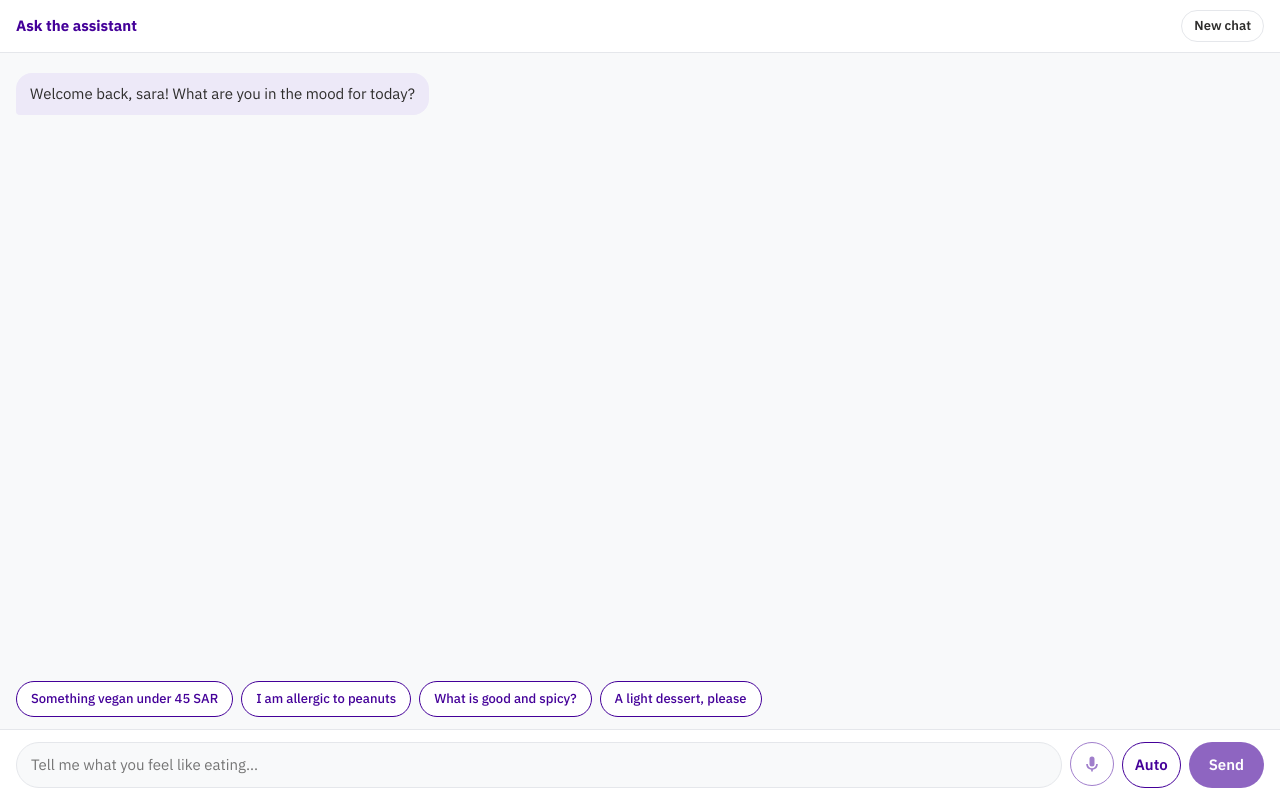
Scenario: ChatPanel › a 503 shows Retry, and Retry resends the same message
Type "Something sweet" into the field named "Message" at point(539, 765), box [16, 742, 1062, 788]
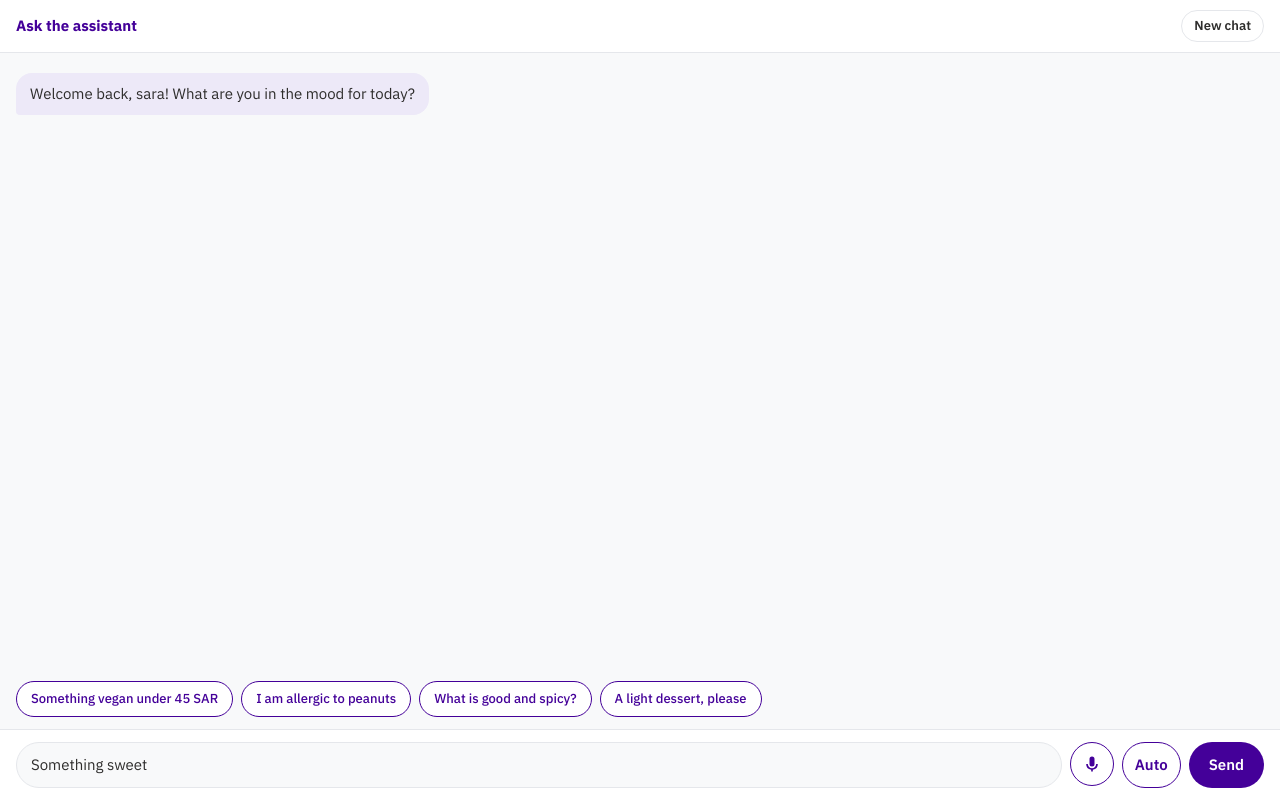
expect the button "Send" is enabled: met
Click the button "Send" at point(1226, 765), box [1189, 742, 1264, 788]
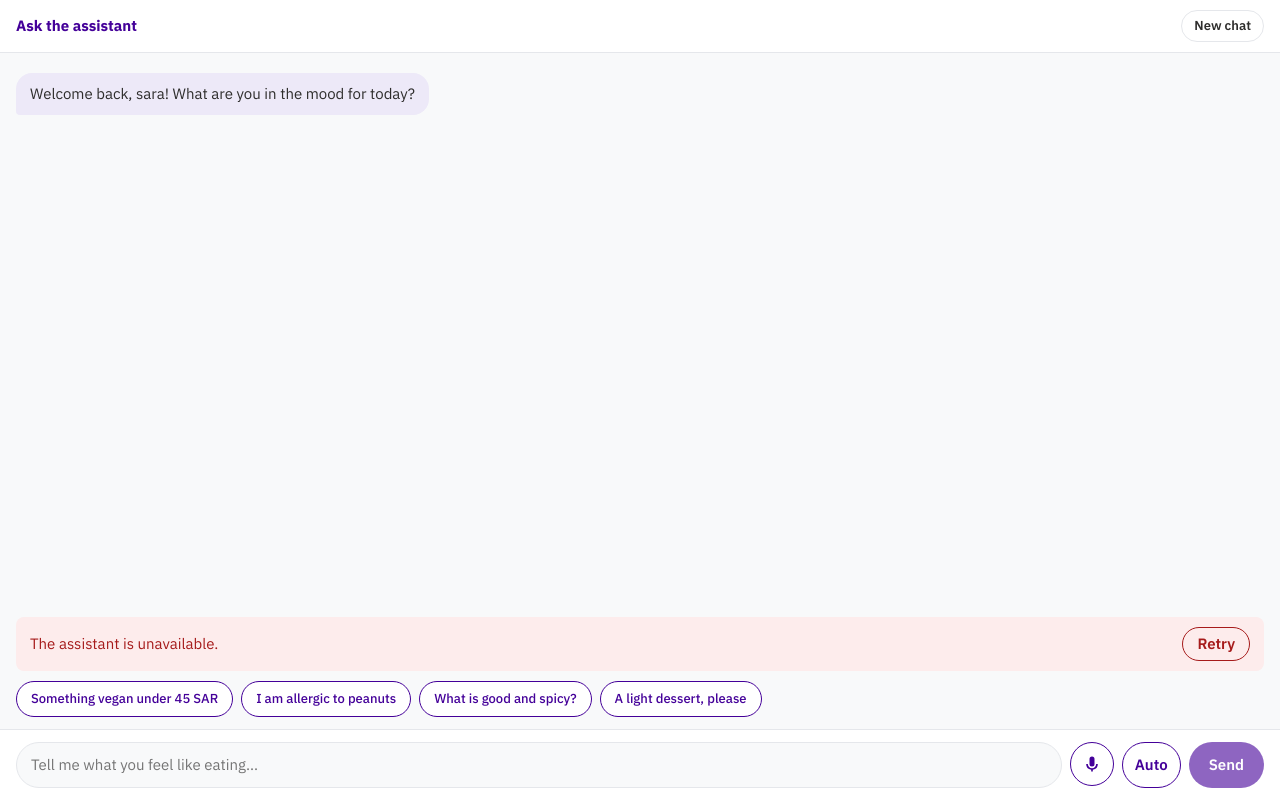
expect the message shows "The assistant is unavailable.": met, box [30, 634, 218, 652]
Click the button "Retry" at point(1216, 644), box [1182, 626, 1250, 661]
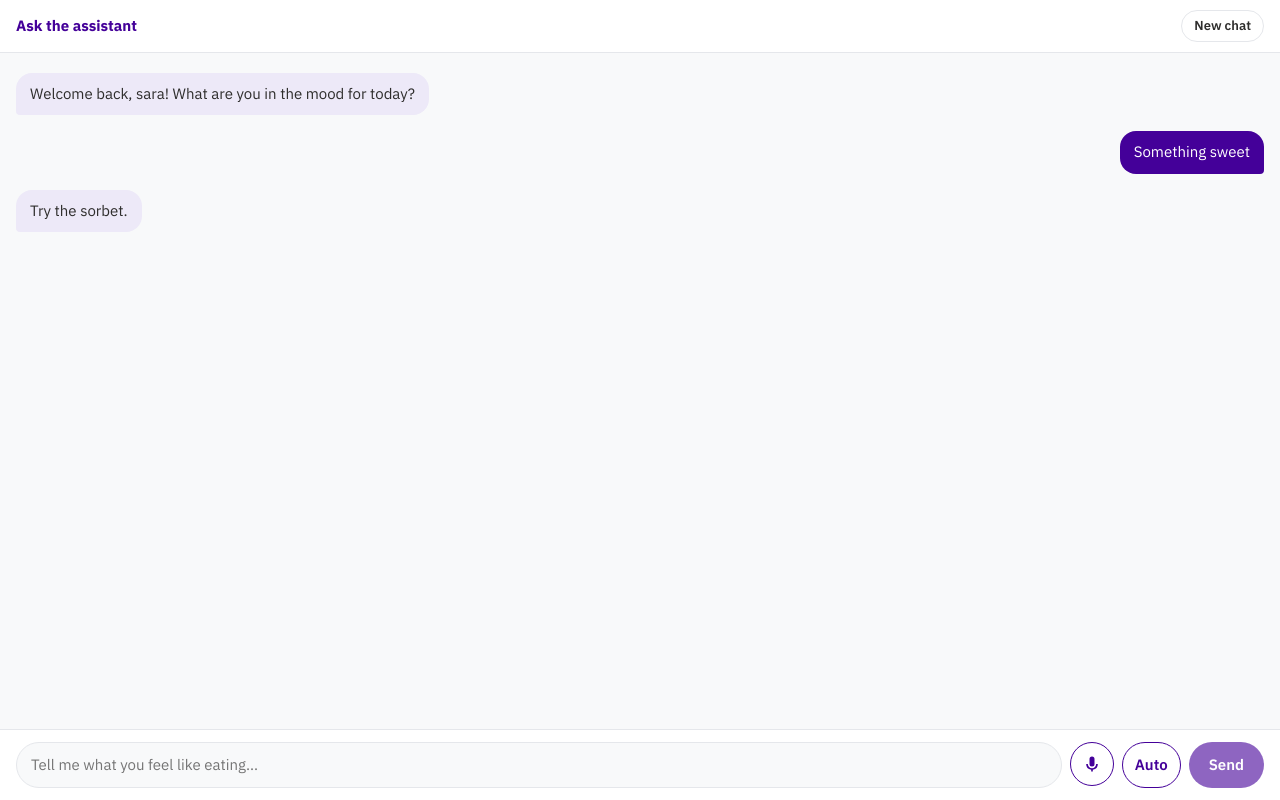
expect the text "Try the sorbet." is shown: met, box [16, 190, 142, 232]
expect the text "Something sweet" is shown once: met, box [1120, 131, 1264, 174]
